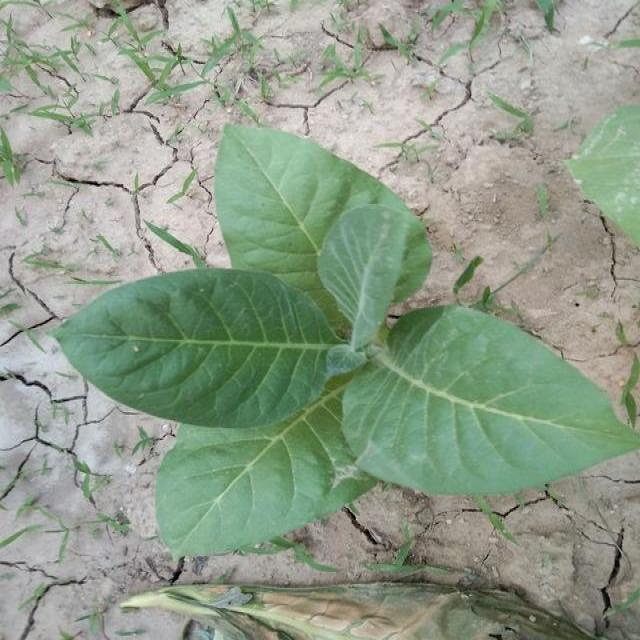crop: (43, 108, 640, 562)
